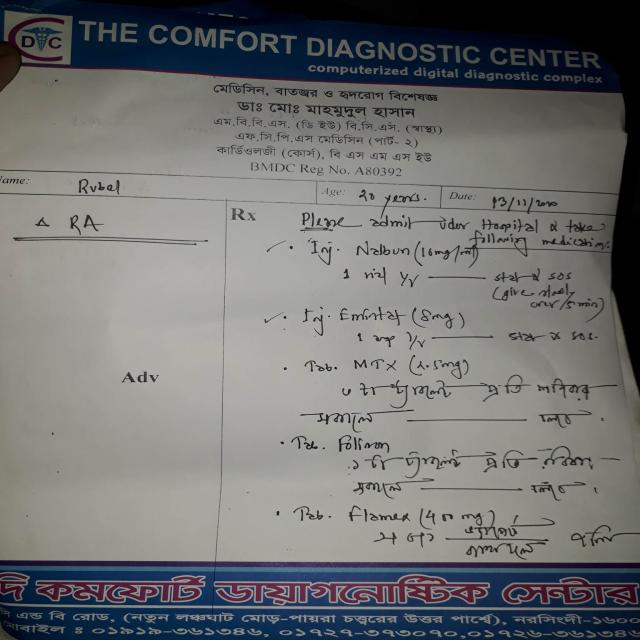Emistat: (335, 301, 404, 329)
Flamex: (338, 497, 415, 527)
Folison: (334, 433, 394, 455)
MTX: (344, 357, 405, 374)
Nalbun: (344, 237, 410, 262)
